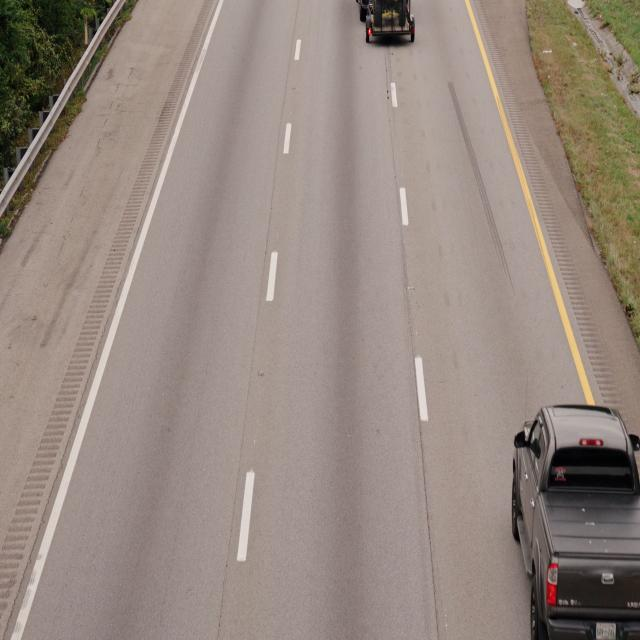Vehicle: (507, 404, 640, 640)
